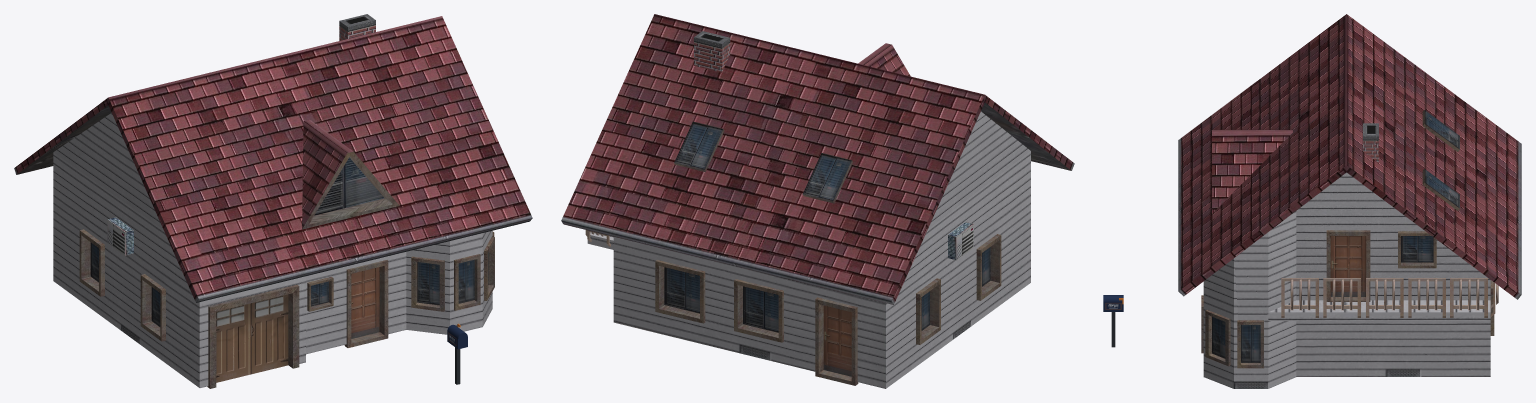
File: casa2-c.glb
The picture shows the model from 3 angles, left to right: view 1: azimuth 30°, elevation 25°; view 2: azimuth 150°, elevation 25°; view 3: azimuth 270°, elevation 25°; orthographic projection. The views are drawn at different scales.
Visible parts, largest first — view 1: Casa, CaixaCorreio; view 2: Casa; view 3: Casa, CaixaCorreio.
Boxes of the visible parts, x1=… form: Casa: x1=14, y1=14, x2=532, y2=388; CaixaCorreio: x1=447, y1=323, x2=467, y2=384; Casa: x1=561, y1=14, x2=1074, y2=388; Casa: x1=1178, y1=14, x2=1521, y2=388; CaixaCorreio: x1=1103, y1=295, x2=1123, y2=347.
Bounding box in the file's own units: 8.84 × 6.38 × 10.33.
5 materials, 2 textured.
